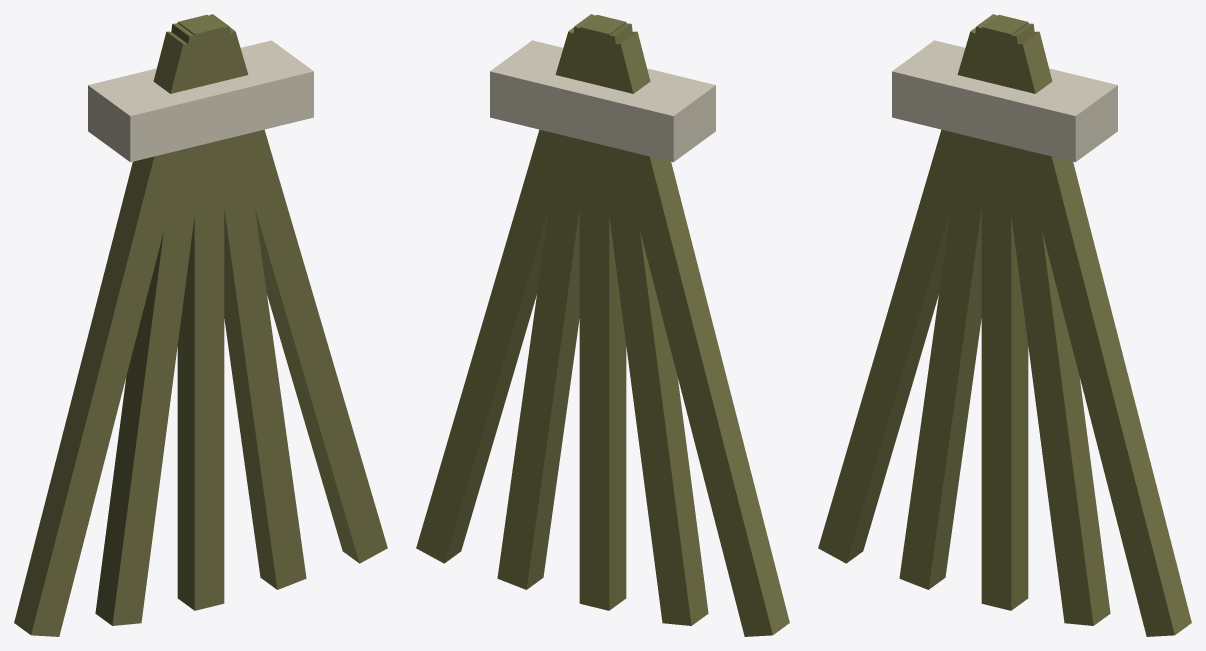
The model's file is good-driedherb.glb.
3 views of the same model, side by side, from view 1: azimuth 30°, elevation 25°; view 2: azimuth 150°, elevation 25°; view 3: azimuth 330°, elevation 25° (orthographic).
Visible parts, largest first — view 1: #7a7a4a_noshadow, #d8d2c0_noshadow; view 2: #7a7a4a_noshadow, #d8d2c0_noshadow; view 3: #7a7a4a_noshadow, #d8d2c0_noshadow.
Boxes of the visible parts, x1=… form: #7a7a4a_noshadow: x1=14, y1=14, x2=387, y2=636; #d8d2c0_noshadow: x1=88, y1=40, x2=313, y2=162; #7a7a4a_noshadow: x1=416, y1=14, x2=789, y2=636; #d8d2c0_noshadow: x1=490, y1=40, x2=715, y2=162; #7a7a4a_noshadow: x1=818, y1=14, x2=1191, y2=636; #d8d2c0_noshadow: x1=892, y1=40, x2=1117, y2=162.
Bounding box in the file's own units: 0.0971 × 0.15 × 0.02.
